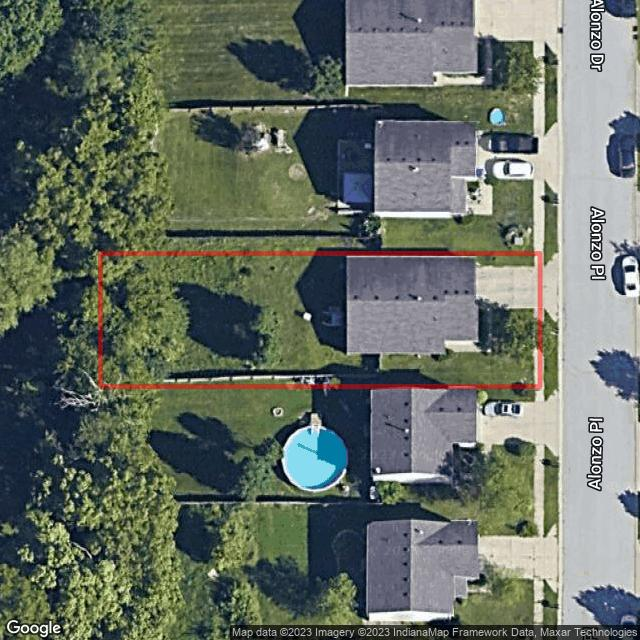Driveway: (476, 266, 538, 309)
Extra Driveway: (544, 253, 559, 323)
Extra Lawn: (542, 307, 559, 387), (543, 252, 558, 265)
House: (346, 256, 491, 354)
Other: (321, 306, 349, 327)
Sidewalk: (534, 308, 538, 384), (534, 256, 538, 267)
